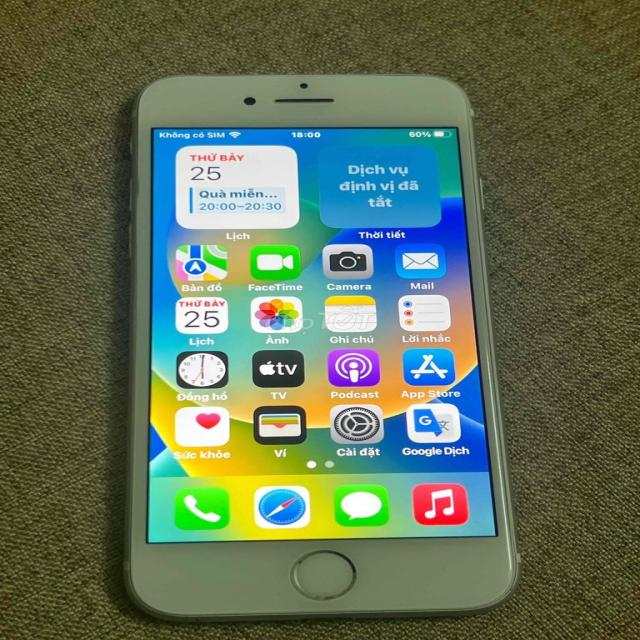gen_7_8: (103, 61, 523, 635)
scratch: (292, 550, 355, 602)
